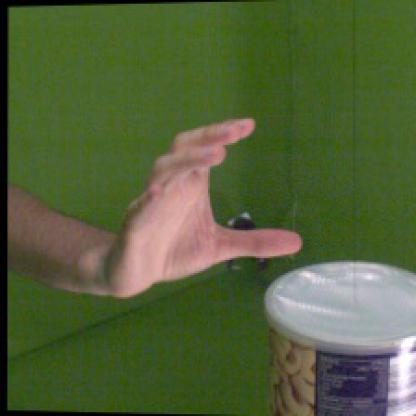Hand: (102, 117, 302, 301)
